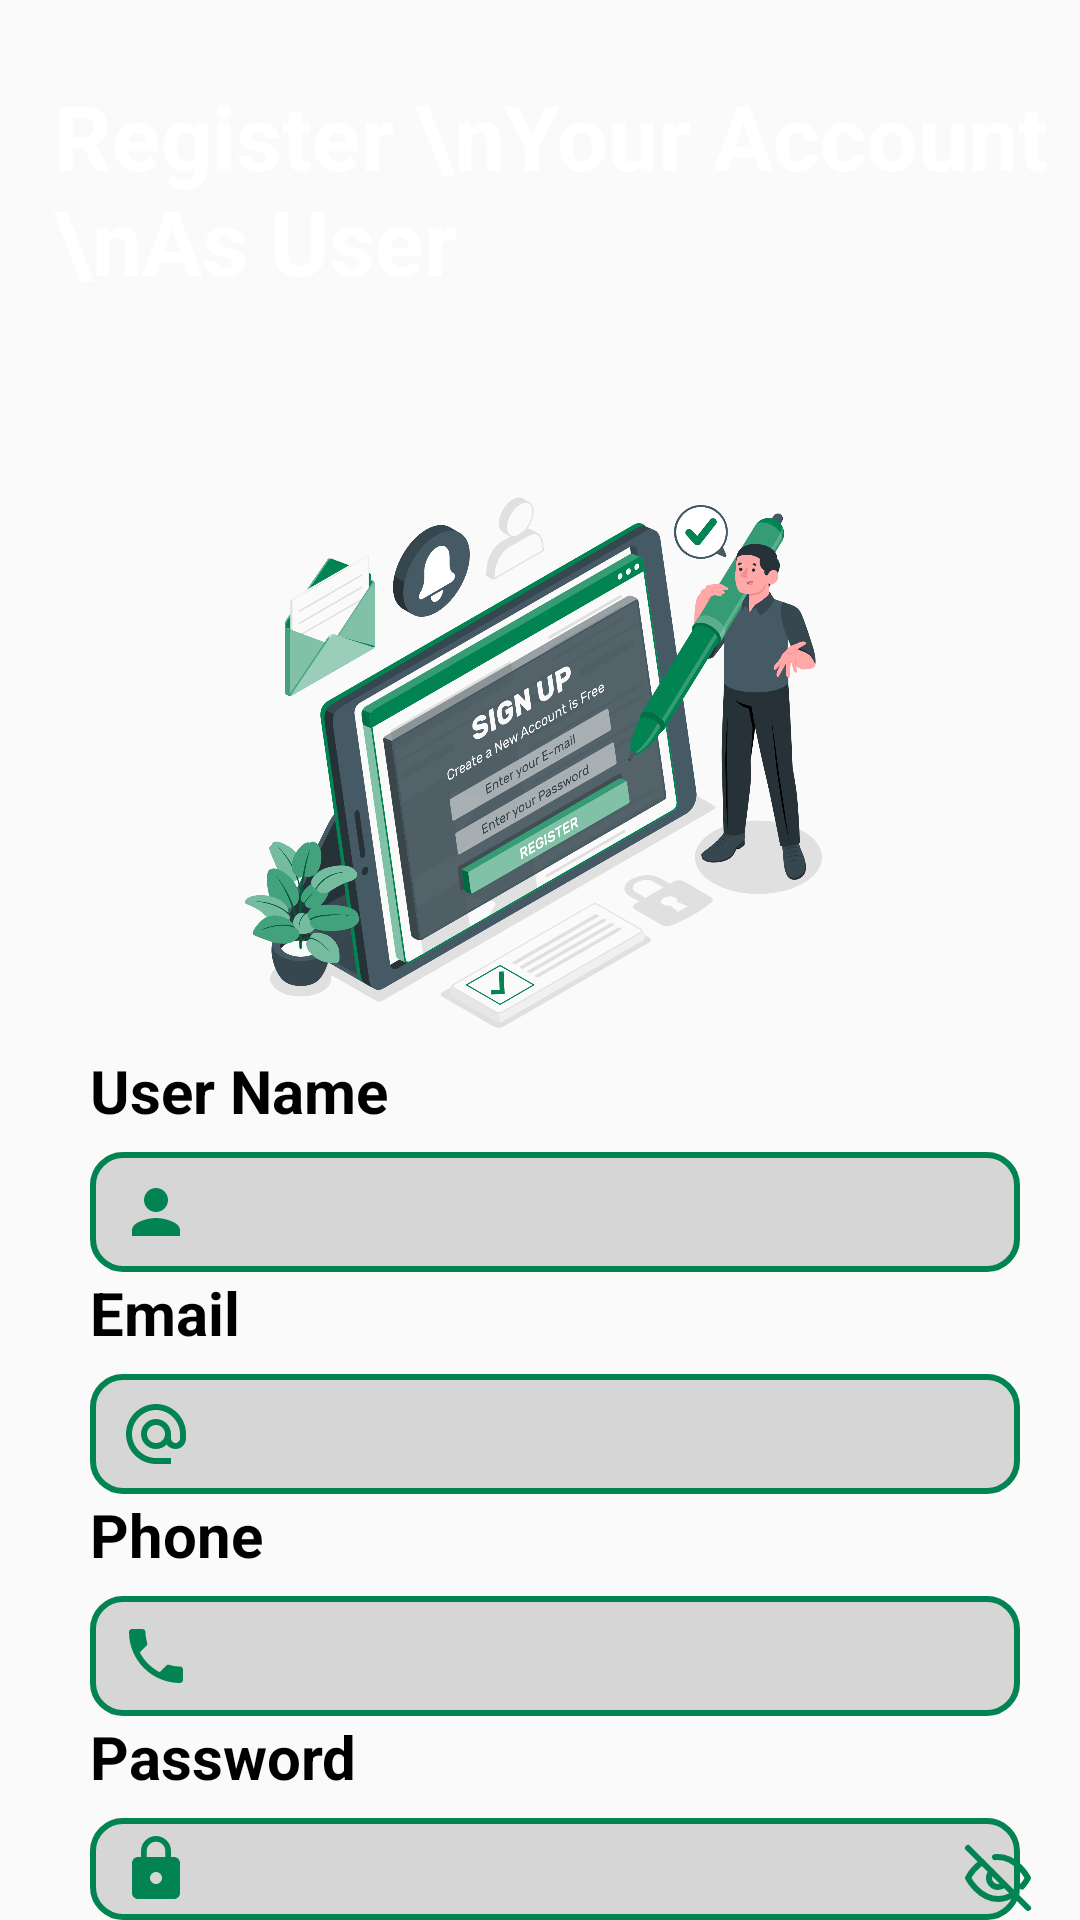

Screen size 1080*1920. Icon name, then its center in pixels as point (x, y):
hide: point (997, 1878)
